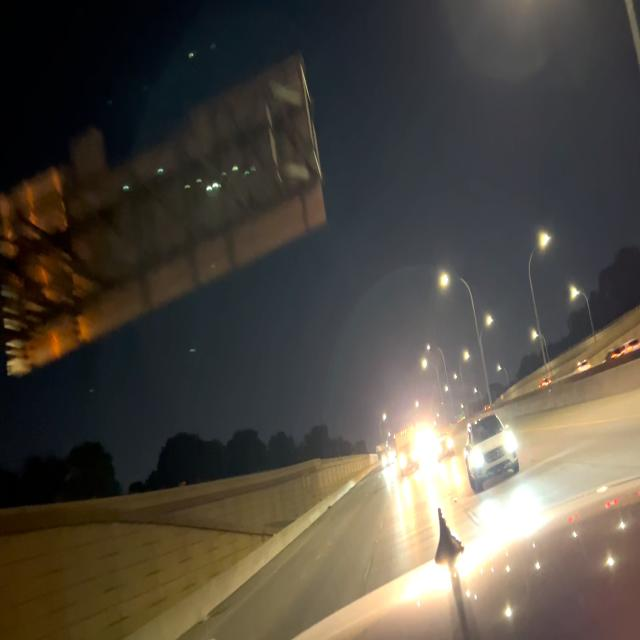back-of-sign: (0, 49, 327, 380)
